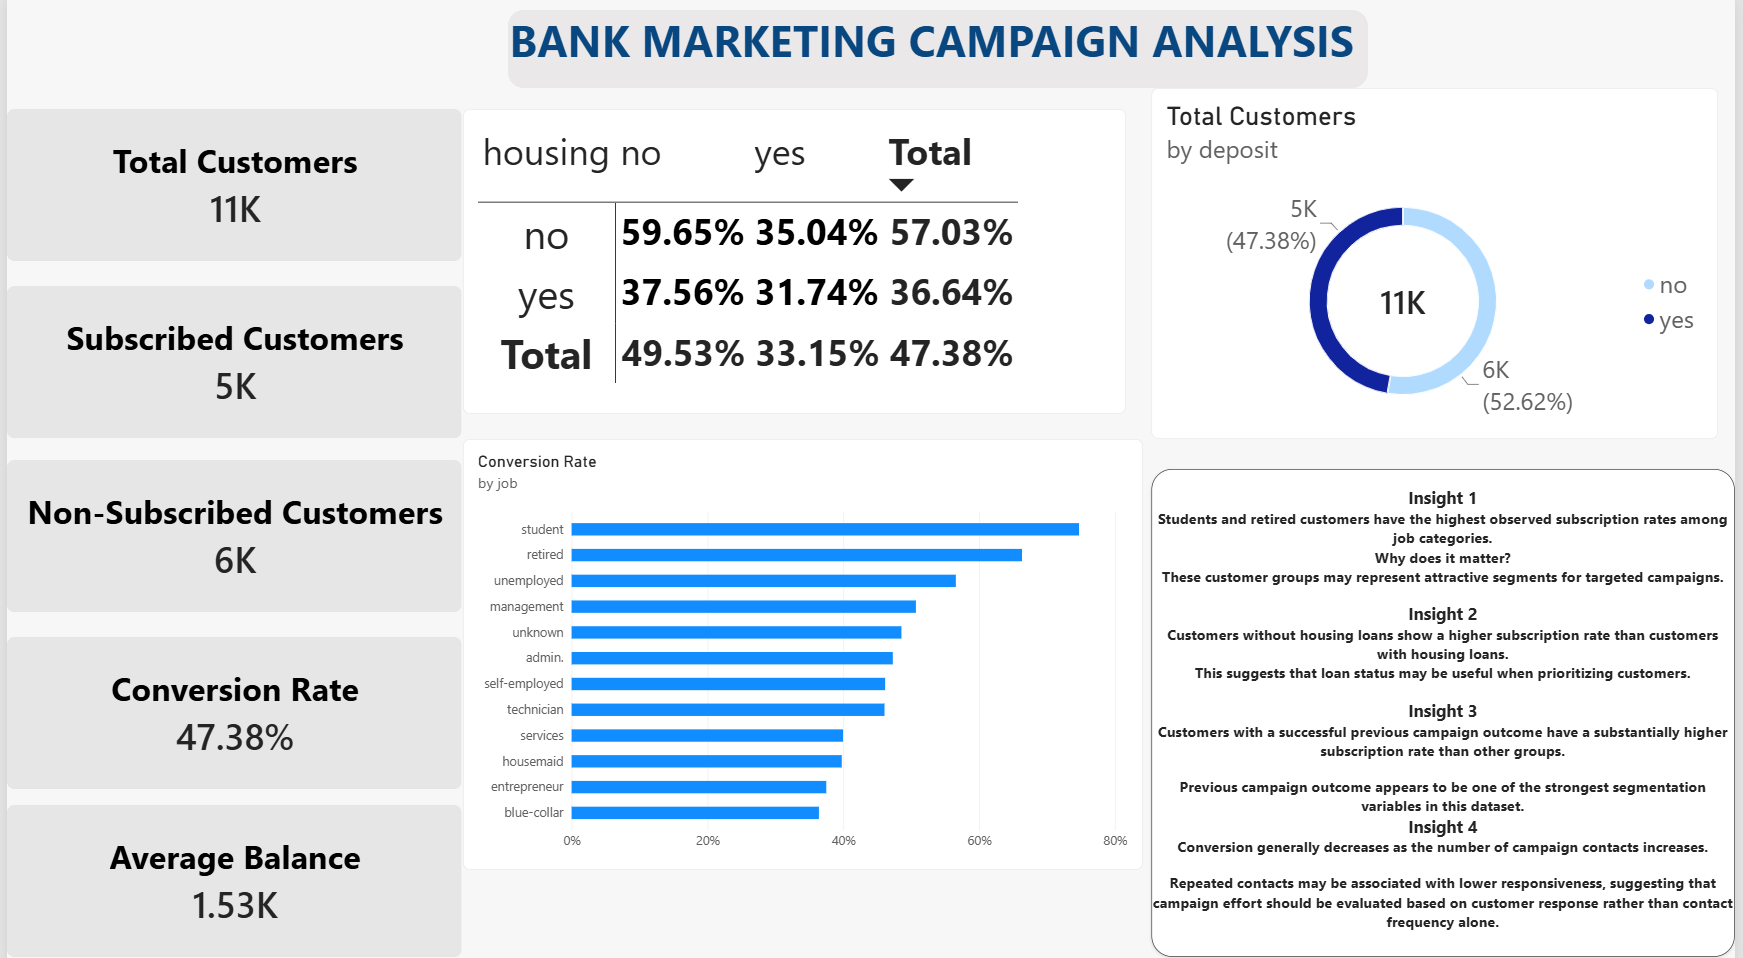

The page's visual inventory and layout, read from the dashboard file:
{"tool":"powerbi","page":{"name":"Page 1","canvas":[1920,1080],"ordinal":0},"visuals":[{"type":"cardVisual","fields":{"Data":["bank.Subscribed Customers"]},"box":[0,320,505.5,169.4],"z":0},{"type":"donutChart","fields":{"Category":["bank.deposit"],"Y":["bank.Total Customers"]},"box":[1272,100,629.2,389.9],"z":1000},{"type":"pivotTable","fields":{"Columns":["bank.loan"],"Rows":["bank.housing"],"Values":["bank.Conversion Rate"]},"box":[506,124,736.8,338.8],"z":2000},{"type":"barChart","fields":{"Category":["bank.job"],"Y":["bank.Conversion Rate"]},"box":[506,490,755.6,478.7],"z":3000},{"type":"textbox","box":[564.7,35,726.1,64.5],"z":4000},{"type":"textbox","box":[0,0,320,150],"z":5000},{"type":"textbox","box":[1272,524,648,542],"z":6000},{"type":"cardVisual","fields":{"Data":["bank.Conversion Rate"]},"box":[0,709.9,505.5,169.4],"z":7000},{"type":"cardVisual","fields":{"Data":["bank.Total Customers"]},"box":[0,123.7,505.5,169.4],"z":8000},{"type":"cardVisual","fields":{"Data":["bank.Non-Subscribed Customers"]},"box":[0,513.6,505.5,169.4],"z":9000},{"type":"cardVisual","fields":{"Data":["bank.Average Balance"]},"box":[0,896,505.5,169.4],"z":9001}]}

Visuals, with their boxes in screenshot pixels (x1, y1, x2, y2), scaled from the page's 1920x1080 canvas onto the 1743x958 screenshot:
cardVisual - bank.Subscribed Customers: l=0, t=284, r=459, b=434
donutChart - bank.deposit x bank.Total Customers: l=1155, t=89, r=1726, b=435
pivotTable - bank.loan x bank.housing: l=459, t=110, r=1128, b=411
barChart - bank.job x bank.Conversion Rate: l=459, t=435, r=1145, b=859
textbox: l=513, t=31, r=1172, b=88
textbox: l=0, t=0, r=290, b=133
textbox: l=1155, t=465, r=1742, b=946
cardVisual - bank.Conversion Rate: l=0, t=630, r=459, b=780
cardVisual - bank.Total Customers: l=0, t=110, r=459, b=260
cardVisual - bank.Non-Subscribed Customers: l=0, t=456, r=459, b=606
cardVisual - bank.Average Balance: l=0, t=795, r=459, b=945
